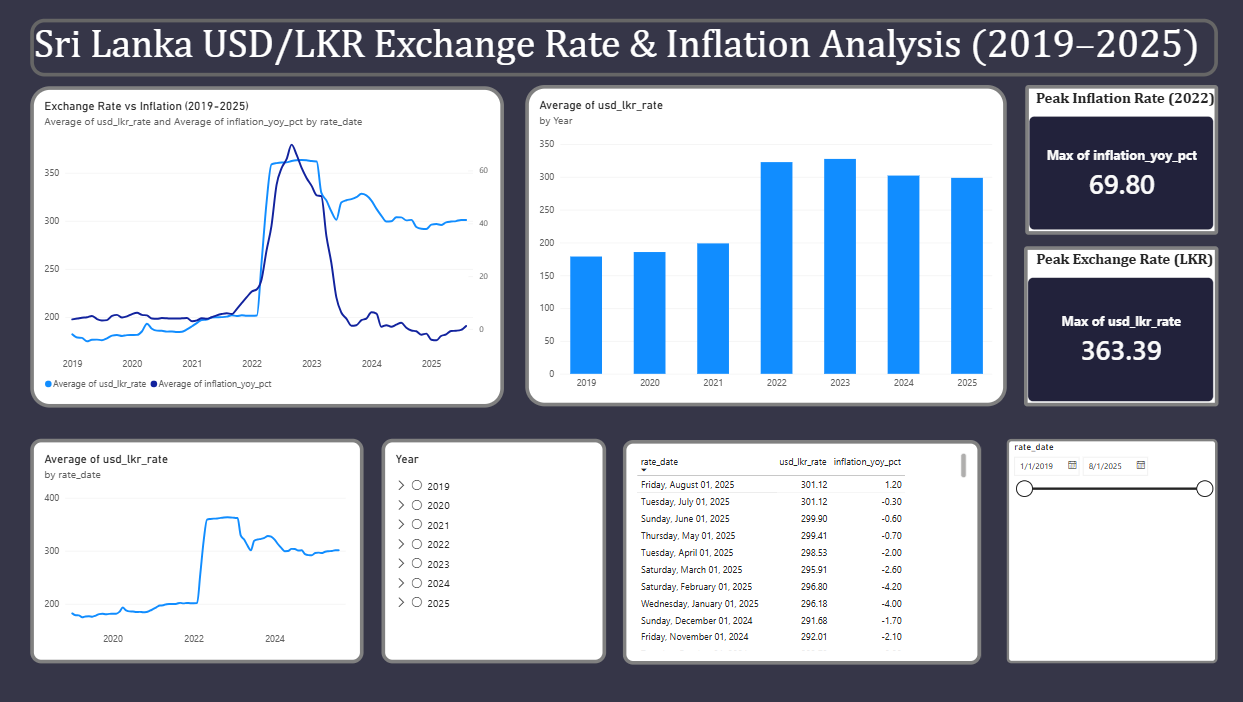

The dashboard page shown, as its layout file describes it:
{"tool":"powerbi","page":{"name":"Page 1","canvas":[1920,1080],"ordinal":0},"visuals":[{"type":"lineChart","title":"Exchange Rate vs Inflation (2019-2025)","fields":{"Category":["public usd_lkr_monthly_rates.rate_date"],"Y":["Avg(public usd_lkr_monthly_rates.usd_lkr_rate)"],"Y2":["Avg(public usd_lkr_monthly_rates.inflation_yoy_pct)"]},"box":[48.5,133.3,729,494.7],"z":0},{"type":"columnChart","fields":{"Category":["public usd_lkr_monthly_rates.rate_date.Variation.Date Hierarchy.Year"],"Y":["Avg(public usd_lkr_monthly_rates.usd_lkr_rate)"]},"box":[809.8,131.3,741.1,494.7],"z":1000},{"type":"lineChart","fields":{"Category":["public usd_lkr_monthly_rates.rate_date"],"Y":["Avg(public usd_lkr_monthly_rates.usd_lkr_rate)"]},"box":[48.5,674.5,512.9,345.3],"z":2000},{"type":"listSlicer","fields":{"Values":["public usd_lkr_monthly_rates.rate_date.Variation.Date Hierarchy.Year","public usd_lkr_monthly_rates.rate_date.Variation.Date Hierarchy.Quarter","public usd_lkr_monthly_rates.rate_date.Variation.Date Hierarchy.Month","public usd_lkr_monthly_rates.rate_date.Variation.Date Hierarchy.Day"]},"box":[587.6,674.5,345.3,345.3],"z":3000},{"type":"slicer","fields":{"Values":["public usd_lkr_monthly_rates.rate_date"]},"box":[1550.9,674.5,325.1,345.3],"z":4000},{"type":"cardVisual","title":"Peak Exchange Rate (LKR)","fields":{"Data":["Max(public usd_lkr_monthly_rates.usd_lkr_rate)"]},"box":[1577.1,379.6,298.9,246.4],"z":5000},{"type":"cardVisual","title":"Peak Inflation Rate (2022)","fields":{"Data":["Max(public usd_lkr_monthly_rates.inflation_yoy_pct)"]},"box":[1579.1,131.3,296.8,230.2],"z":6000},{"type":"tableEx","fields":{"Values":["public usd_lkr_monthly_rates.rate_date","public usd_lkr_monthly_rates.usd_lkr_rate","public usd_lkr_monthly_rates.inflation_yoy_pct"]},"box":[959.2,676.5,551.3,345.3],"z":7000},{"type":"textbox","title":"    Sri Lanka USD/LKR Exchange Rate & Inflation Analysis (2019–2025)","box":[48.5,28.3,1827.5,88.9],"z":8000}]}

Visuals, with their boxes in screenshot pixels (x1, y1, x2, y2), scaled from the page's 1920x1080 canvas onto the 1243x702 screenshot:
"Exchange Rate vs Inflation (2019-2025)" lineChart: {"left": 31, "top": 87, "right": 503, "bottom": 408}
columnChart - public usd_lkr_monthly_rates.rate_date.Variation.Date Hierarchy.Year x Avg(public usd_lkr_monthly_rates.usd_lkr_rate): {"left": 524, "top": 85, "right": 1004, "bottom": 407}
lineChart - public usd_lkr_monthly_rates.rate_date x Avg(public usd_lkr_monthly_rates.usd_lkr_rate): {"left": 31, "top": 438, "right": 363, "bottom": 663}
listSlicer - public usd_lkr_monthly_rates.rate_date.Variation.Date Hierarchy.Year x public usd_lkr_monthly_rates.rate_date.Variation.Date Hierarchy.Quarter: {"left": 380, "top": 438, "right": 604, "bottom": 663}
slicer - public usd_lkr_monthly_rates.rate_date: {"left": 1004, "top": 438, "right": 1215, "bottom": 663}
"Peak Exchange Rate (LKR)" cardVisual: {"left": 1021, "top": 247, "right": 1215, "bottom": 407}
"Peak Inflation Rate (2022)" cardVisual: {"left": 1022, "top": 85, "right": 1214, "bottom": 235}
tableEx - public usd_lkr_monthly_rates.rate_date x public usd_lkr_monthly_rates.usd_lkr_rate: {"left": 621, "top": 440, "right": 978, "bottom": 664}
"    Sri Lanka USD/LKR Exchange Rate & Inflation Analysis (2019–2025)" textbox: {"left": 31, "top": 18, "right": 1215, "bottom": 76}
